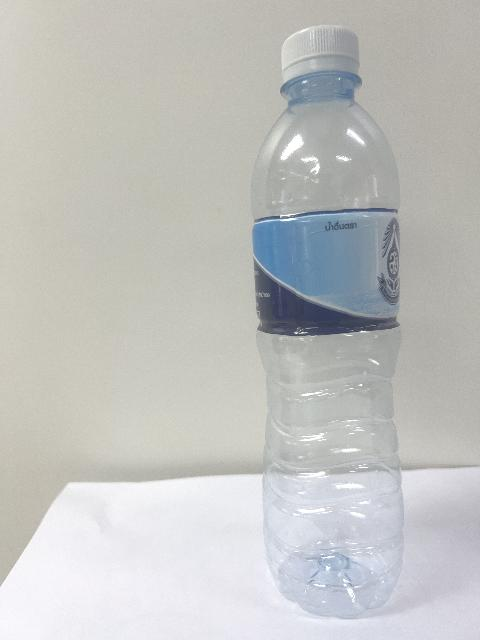bottle: (252, 26, 403, 617)
